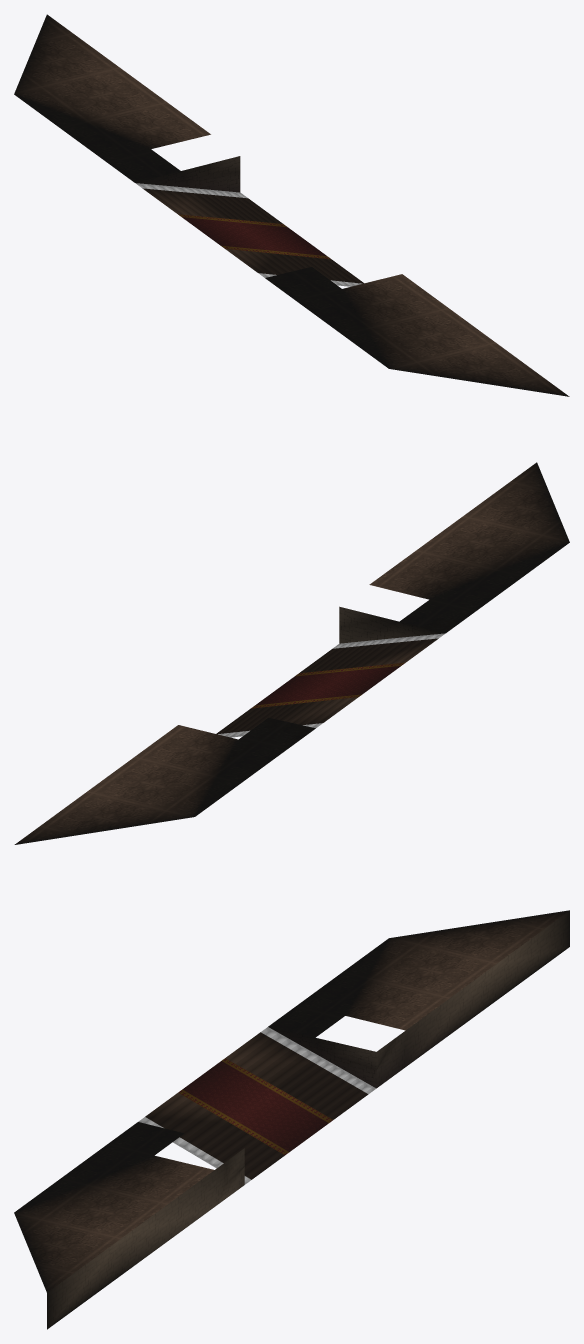
File: room_ledge_walls.glb
3 views of the same model, one above another, from view 1: azimuth 30°, elevation 25°; view 2: azimuth 150°, elevation 25°; view 3: azimuth 330°, elevation 25° (orthographic).
Visible parts, largest first — view 1: ledge; view 2: ledge; view 3: ledge.
Boxes of the visible parts, x1,y1,x2,y2 form: ledge: (14,14,569,396); ledge: (14,462,569,844); ledge: (14,910,569,1329).
Size of the model in its own units: 34.84 by 11.5 by 295.
Materials: 6 (6 with a texture image).
